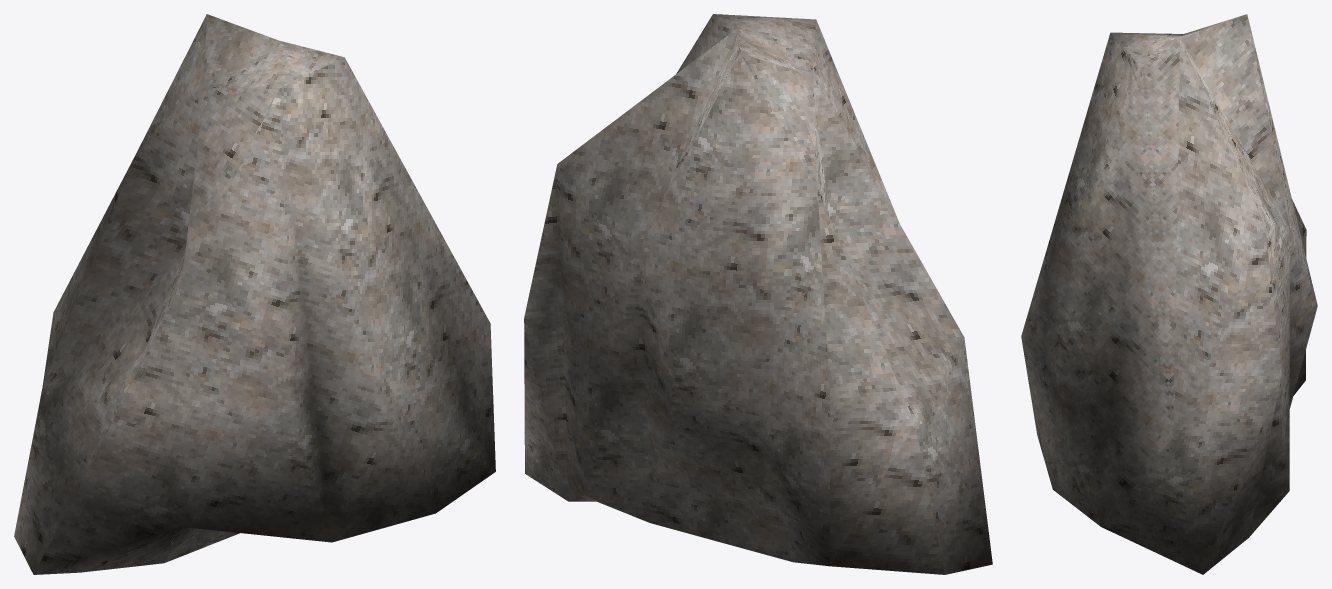
Rendered from rock_2.glb.
3 renders of one model, left to right at view 1: azimuth 30°, elevation 25°; view 2: azimuth 150°, elevation 25°; view 3: azimuth 270°, elevation 25°, orthographic. The views are drawn at different scales.
Visible parts, largest first — view 1: Rock 2; view 2: Rock 2; view 3: Rock 2.
Boxes of the visible parts, x1,y1,x2,y2 form: Rock 2: (14,14,495,574); Rock 2: (524,14,992,574); Rock 2: (1021,14,1317,574).
Bounding box in the file's own units: 7.52 × 8.05 × 4.58.
Materials: 1 (1 with a texture image).
